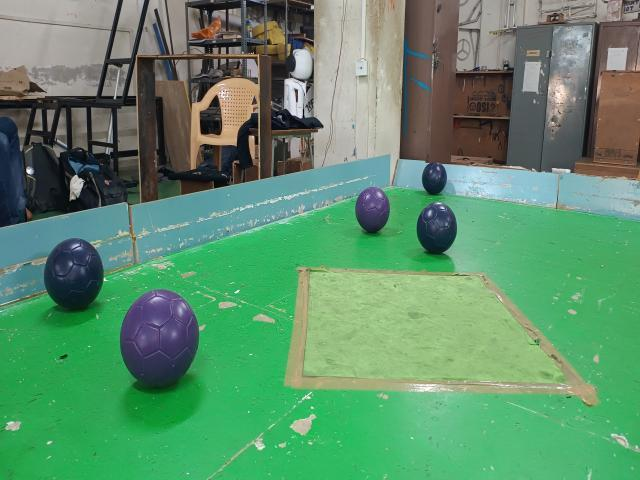jambhalya: (120, 290, 199, 387), (355, 187, 390, 233)
kaalyya: (44, 238, 104, 310), (416, 202, 456, 253), (421, 162, 448, 195)
